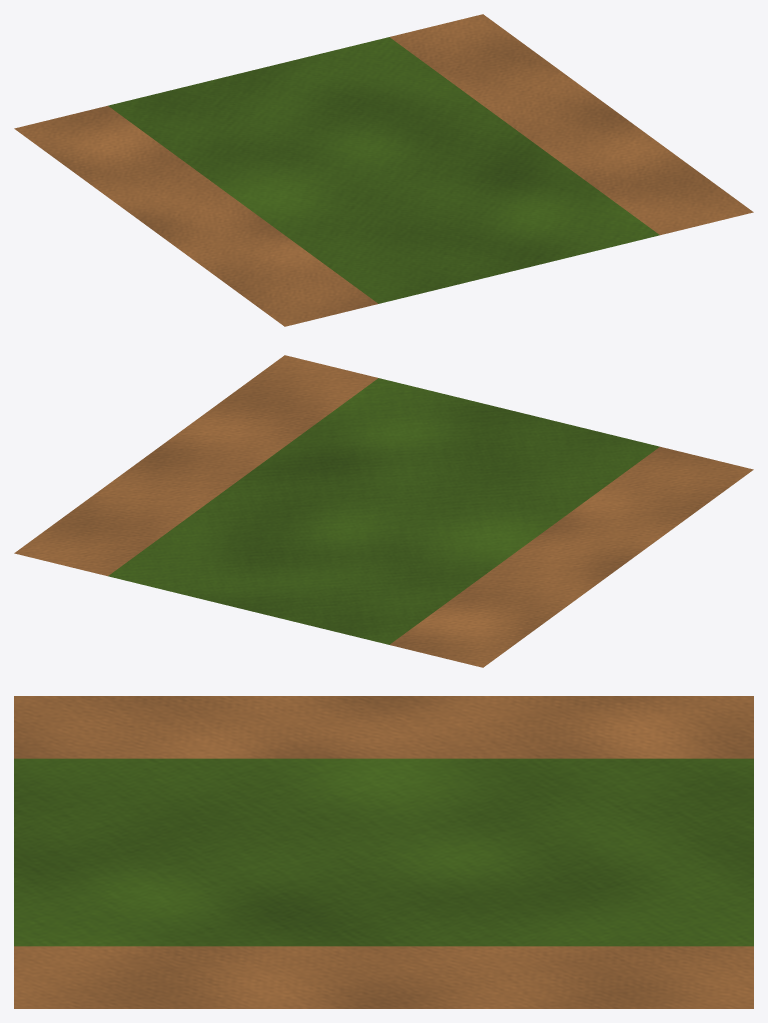
The model's file is grass_mix.glb.
The picture shows the model from 3 angles, top to bottom: view 1: azimuth 30°, elevation 25°; view 2: azimuth 150°, elevation 25°; view 3: azimuth 270°, elevation 25°; orthographic projection. The views are drawn at different scales.
Parts seen in each view (by area): view 1: ground_mixed_tile; view 2: ground_mixed_tile; view 3: ground_mixed_tile.
Part boxes in pixels (box(x1,y1,x2,y2)): ground_mixed_tile: box(14, 14, 753, 326); ground_mixed_tile: box(14, 355, 753, 667); ground_mixed_tile: box(14, 696, 753, 1008).
Size of what is drawn, in the model's own units: 3 by 0 by 3.
Materials: 2 (2 with a texture image).
